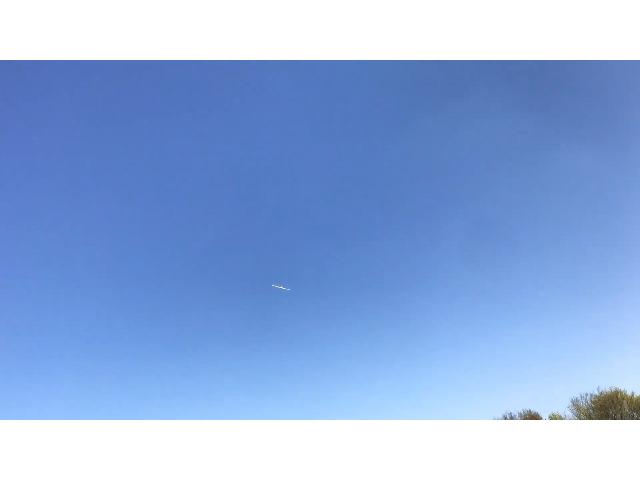Anti-Drone: (262, 274, 298, 298)
